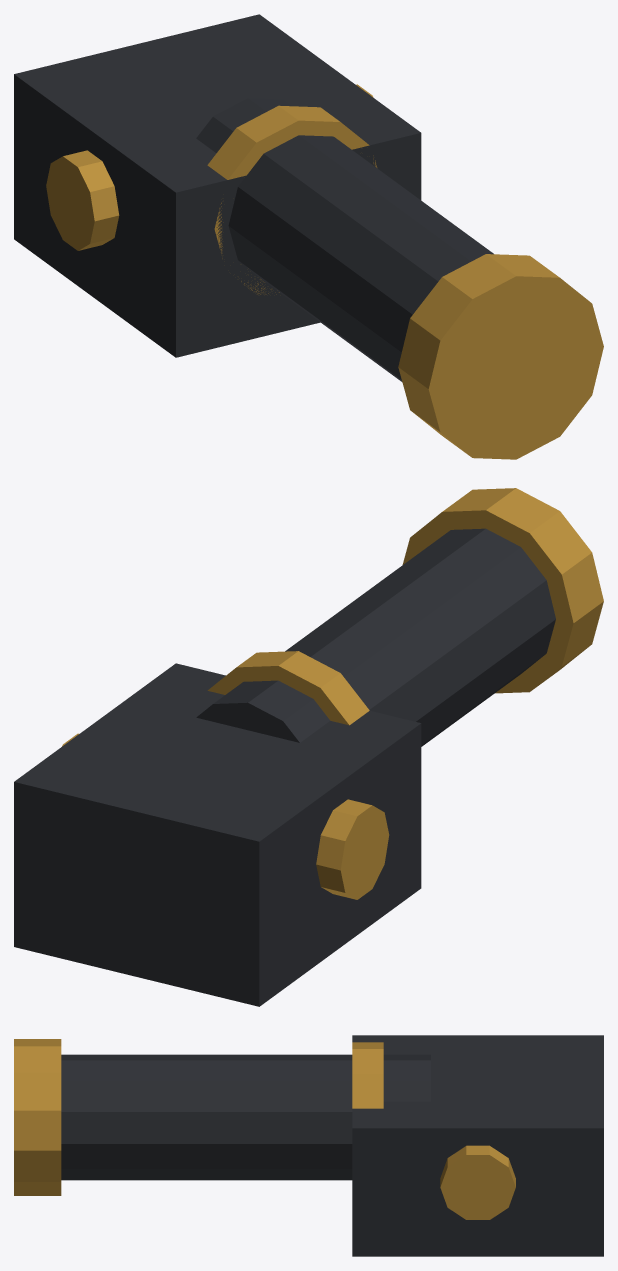
File: CannonHead.obj
The picture shows the model from 3 angles, top to bottom: view 1: azimuth 30°, elevation 25°; view 2: azimuth 150°, elevation 25°; view 3: azimuth 270°, elevation 25°; orthographic projection. The views are drawn at different scales.
Parts seen in each view (by area): view 1: CannonHead; view 2: CannonHead; view 3: CannonHead.
Boxes of the visible parts, left/top/right/bottom form: CannonHead: left=14, top=14, right=603, bottom=459; CannonHead: left=14, top=488, right=603, bottom=1006; CannonHead: left=14, top=1035, right=603, bottom=1256.
Size of the model in its own units: 0.84 by 0.575 by 1.87.
